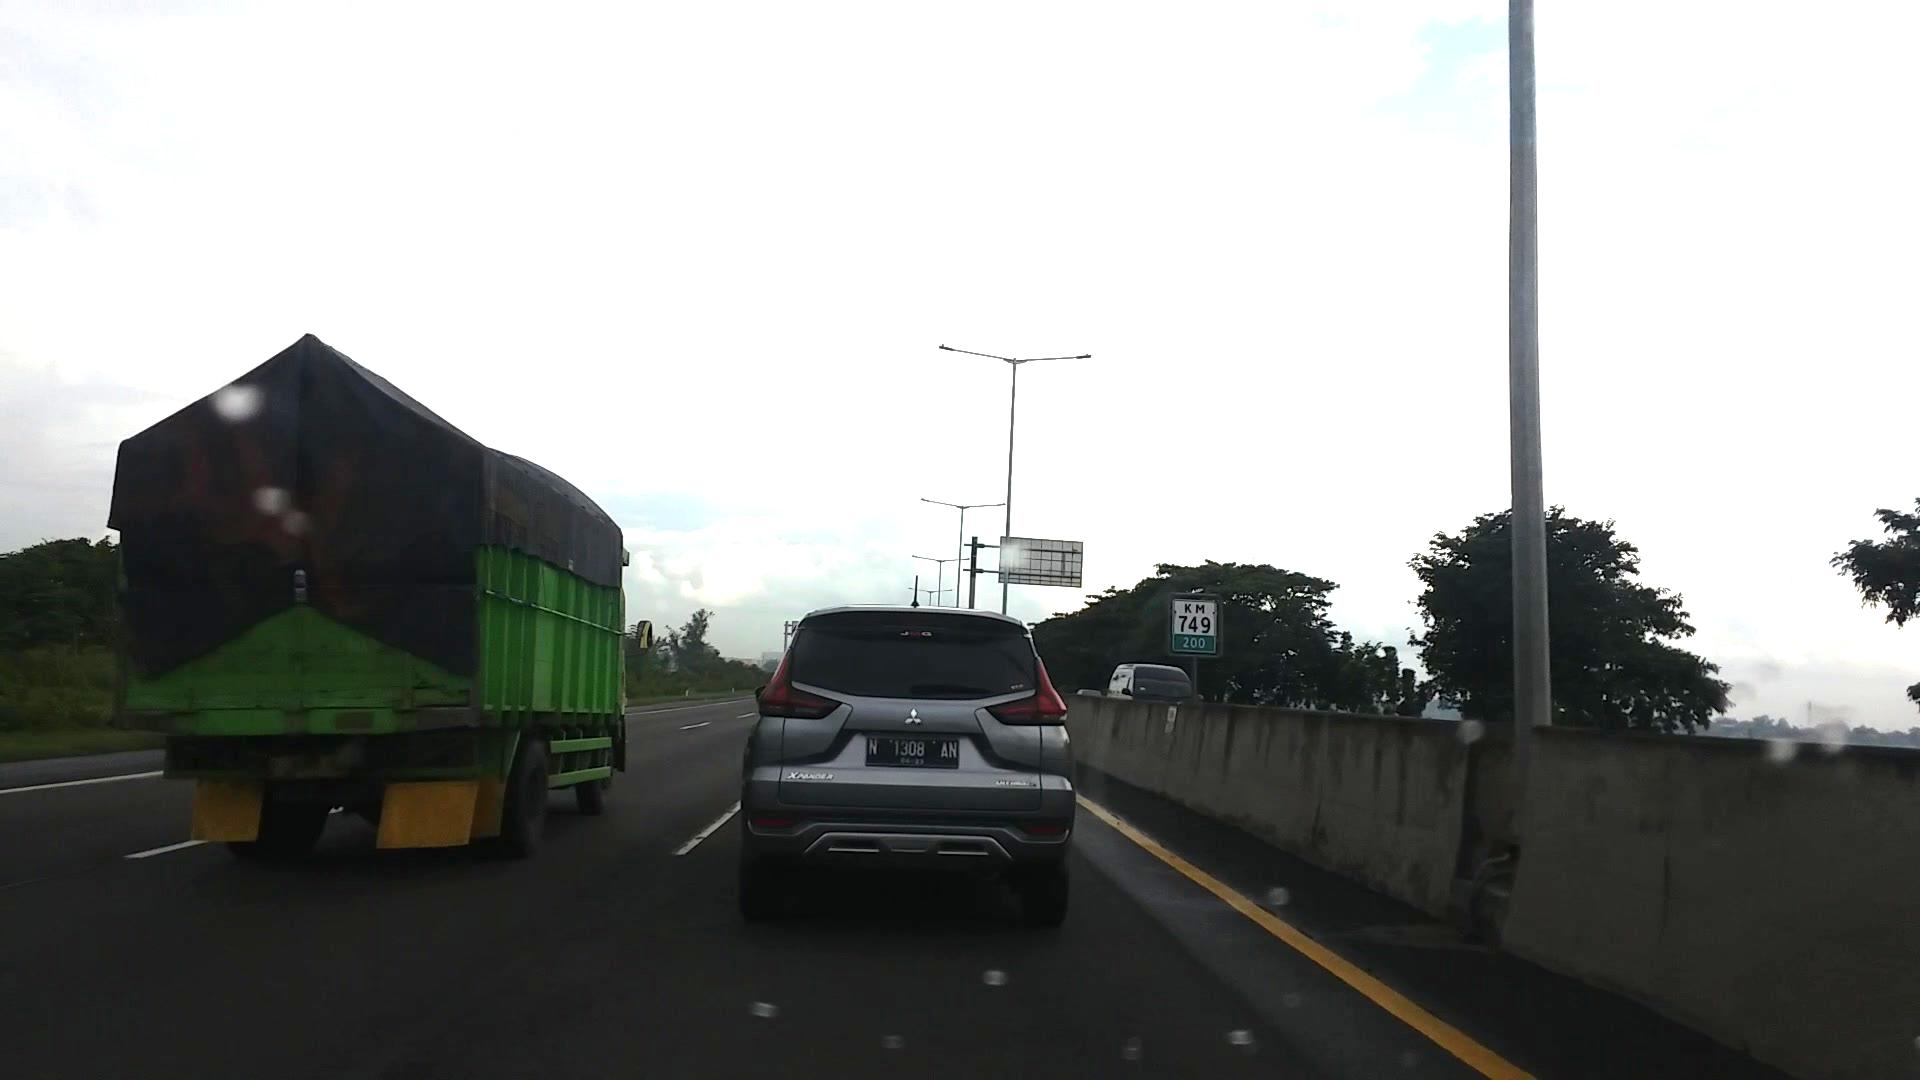plate_positive: (865, 736, 959, 769)
